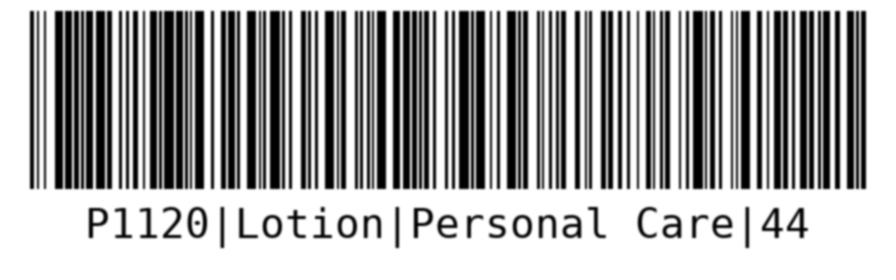milk: (25, 8, 871, 263)
